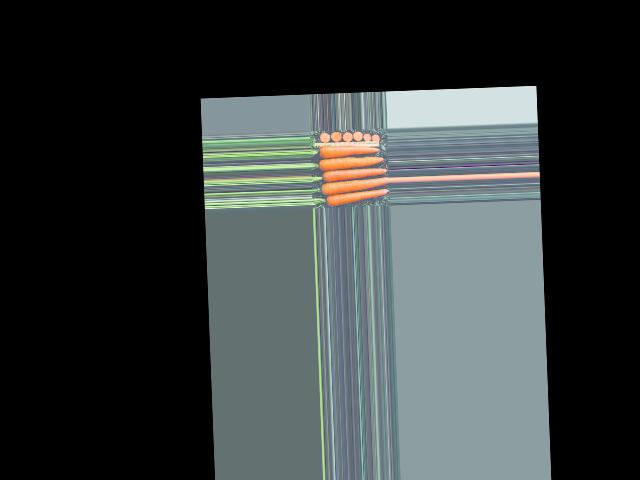carrot: (314, 140, 382, 158)
